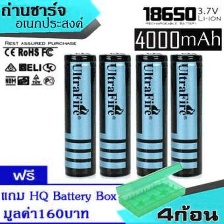battery: (61, 49, 98, 179), (96, 48, 132, 179), (169, 51, 205, 179), (132, 51, 167, 180)
